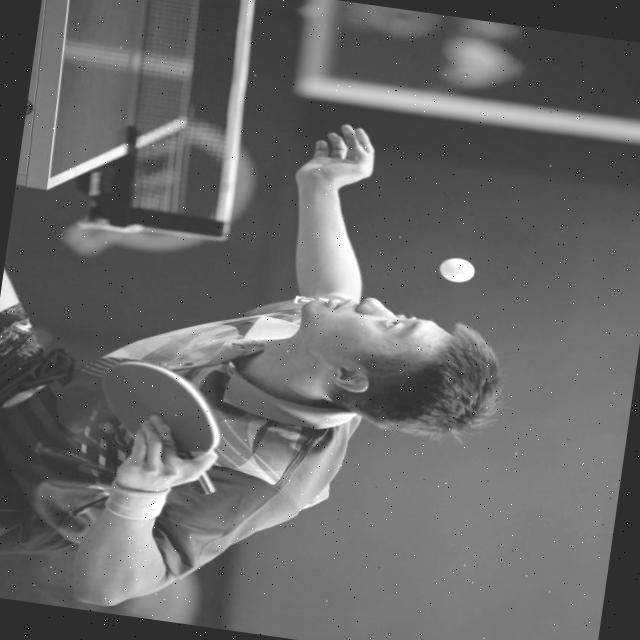ping-pong-ball: (434, 252, 482, 288)
